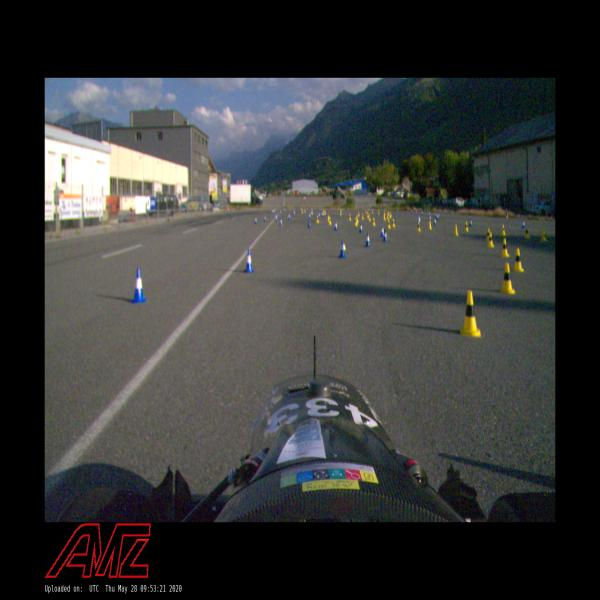blue_cone: (130, 268, 146, 304), (244, 248, 254, 273), (338, 240, 346, 259), (364, 232, 371, 248), (383, 230, 388, 242), (380, 226, 385, 237), (359, 223, 363, 233), (522, 220, 526, 229), (469, 219, 473, 227), (334, 222, 338, 230), (418, 215, 421, 224), (308, 220, 311, 228), (255, 217, 258, 224), (280, 218, 282, 226), (264, 215, 266, 222), (434, 218, 436, 225), (275, 214, 277, 220), (288, 214, 290, 220), (309, 213, 311, 219), (318, 212, 320, 218), (429, 216, 431, 222), (434, 212, 436, 218), (438, 213, 440, 219), (321, 211, 323, 217), (294, 211, 296, 215), (421, 211, 423, 215), (437, 215, 438, 220), (311, 211, 312, 216), (323, 213, 324, 218), (284, 208, 285, 213), (411, 210, 412, 214), (416, 210, 417, 214), (429, 212, 430, 216), (280, 210, 281, 214)
yellow_cone: (460, 289, 482, 336), (500, 262, 515, 295), (513, 248, 524, 273), (501, 238, 509, 258), (487, 232, 494, 248), (524, 227, 530, 239), (541, 228, 546, 242), (486, 228, 491, 241), (501, 225, 506, 236), (454, 224, 458, 236), (428, 220, 432, 231), (464, 222, 468, 232), (416, 222, 420, 232), (391, 218, 395, 228), (372, 217, 376, 226), (328, 217, 332, 225), (387, 220, 390, 229), (316, 216, 319, 224), (354, 218, 357, 226), (327, 215, 330, 222), (361, 213, 364, 220), (356, 215, 358, 224), (368, 215, 371, 221), (367, 213, 370, 218), (349, 214, 351, 221), (340, 210, 342, 216), (358, 211, 360, 217), (322, 210, 325, 214), (301, 209, 303, 214), (304, 209, 306, 214), (372, 209, 374, 214), (324, 210, 326, 215), (506, 214, 508, 218), (312, 210, 313, 215), (378, 210, 379, 214)
